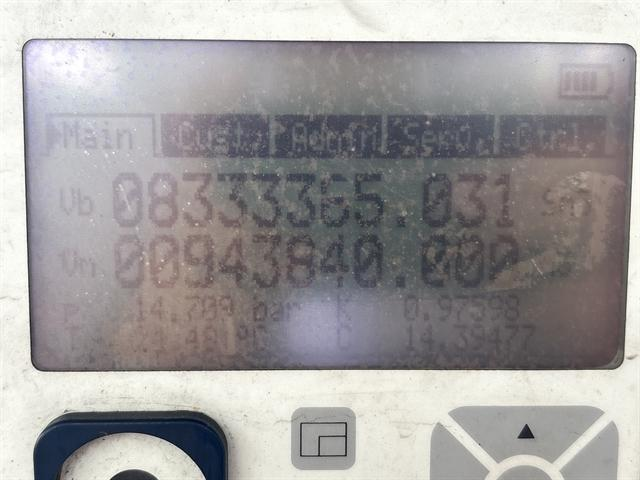digital_screen: (23, 43, 634, 369)
